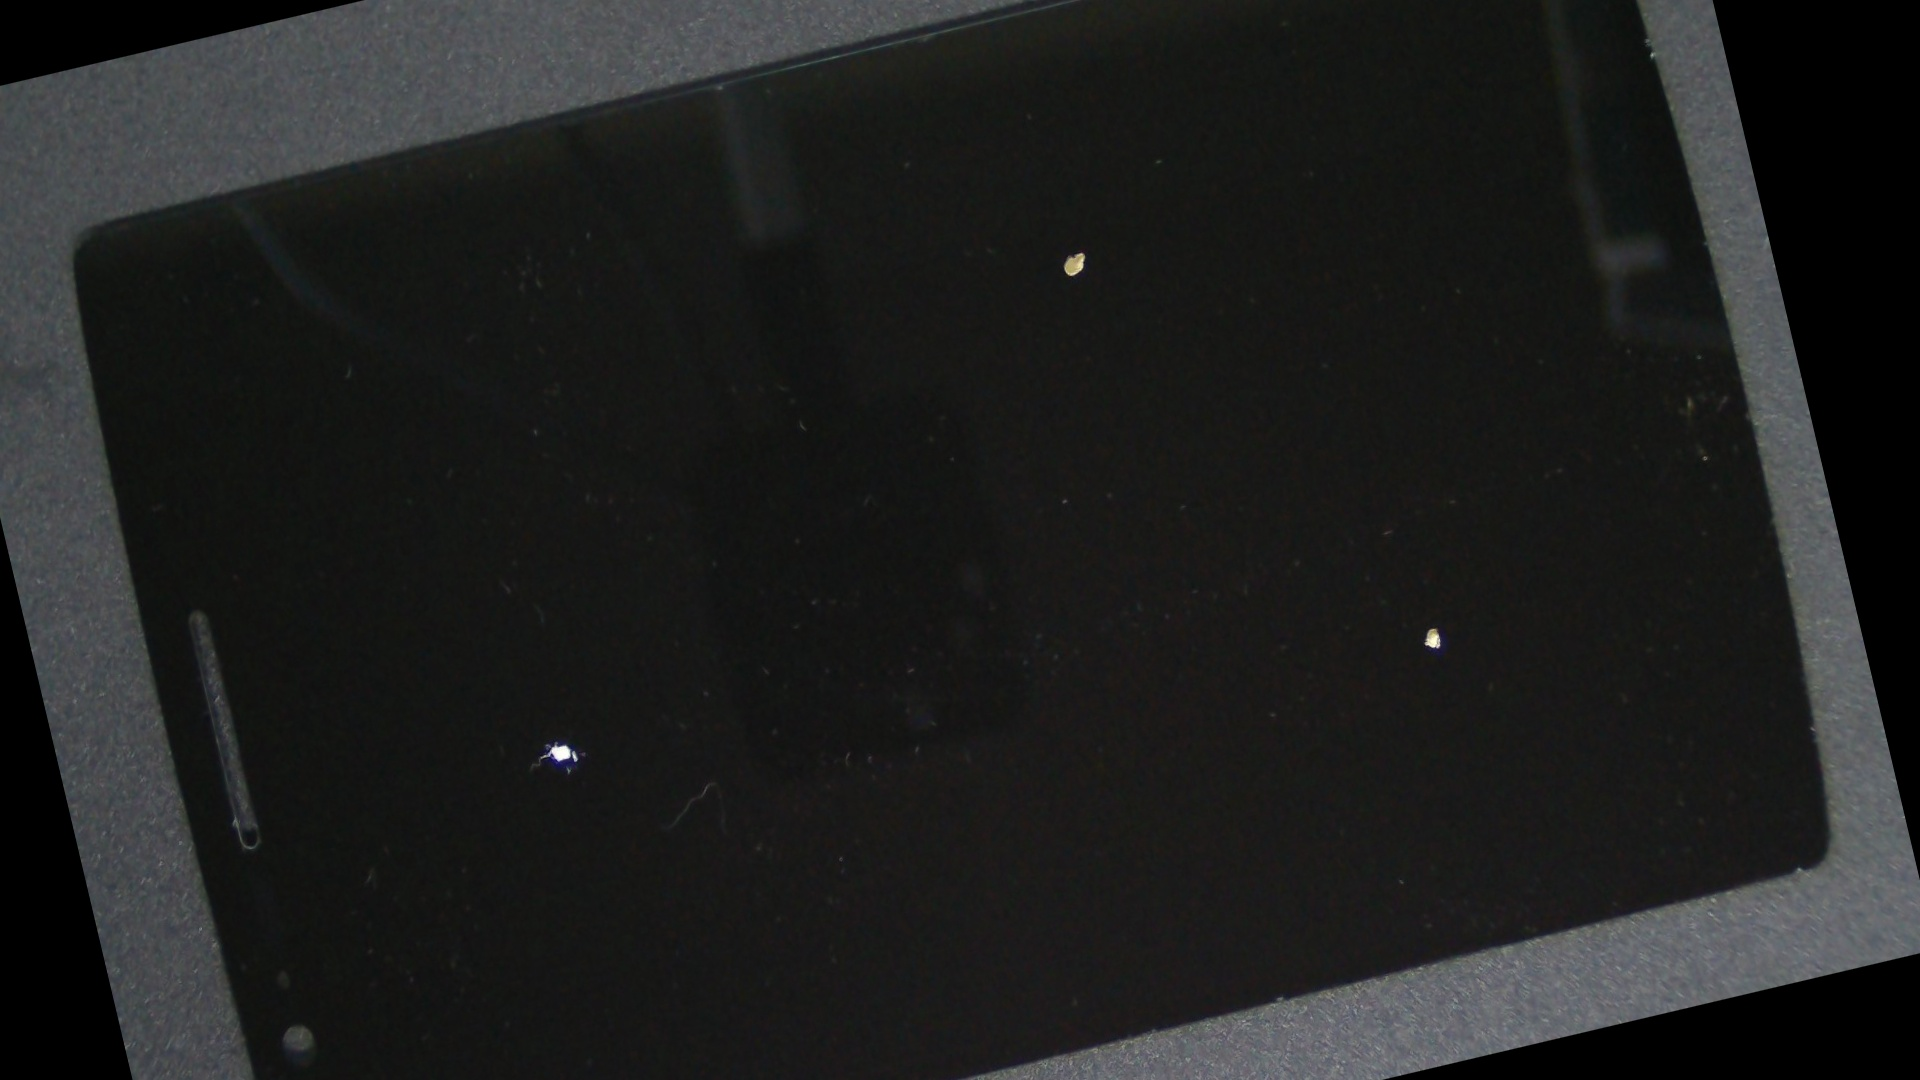oil: (666, 112, 1920, 1080), (485, 0, 1643, 576), (228, 314, 874, 1080)
